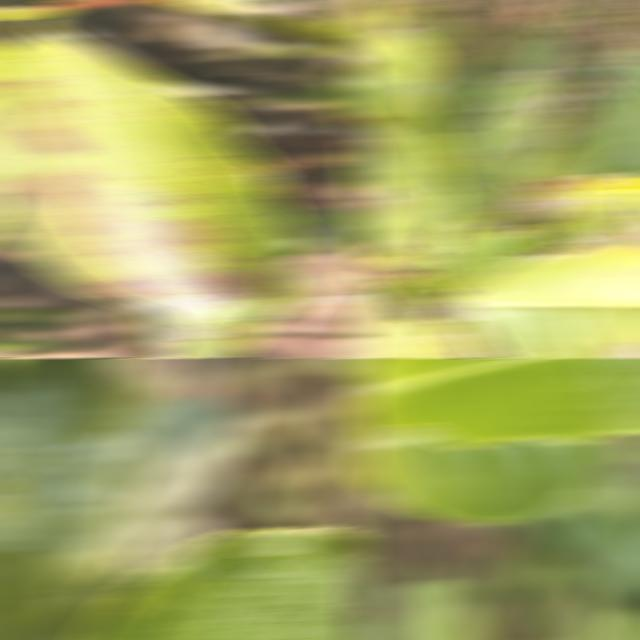Leaf: (0, 23, 299, 358), (0, 358, 144, 640), (75, 526, 367, 640), (349, 0, 457, 262), (349, 425, 630, 524), (349, 358, 640, 450), (115, 395, 250, 559), (449, 244, 640, 358), (452, 36, 564, 221), (484, 173, 640, 247), (419, 210, 531, 293), (541, 510, 640, 599), (579, 43, 640, 177), (389, 578, 489, 640), (349, 289, 420, 358), (542, 577, 617, 640), (413, 49, 468, 129), (394, 281, 470, 333), (398, 318, 472, 358), (524, 143, 598, 180), (541, 34, 586, 94), (400, 11, 461, 55), (437, 321, 485, 358), (379, 3, 426, 28)
